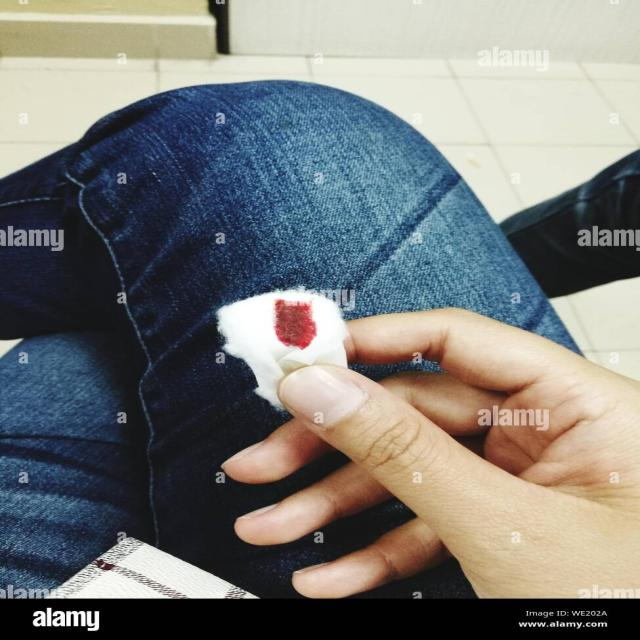B3: (212, 290, 352, 366)
